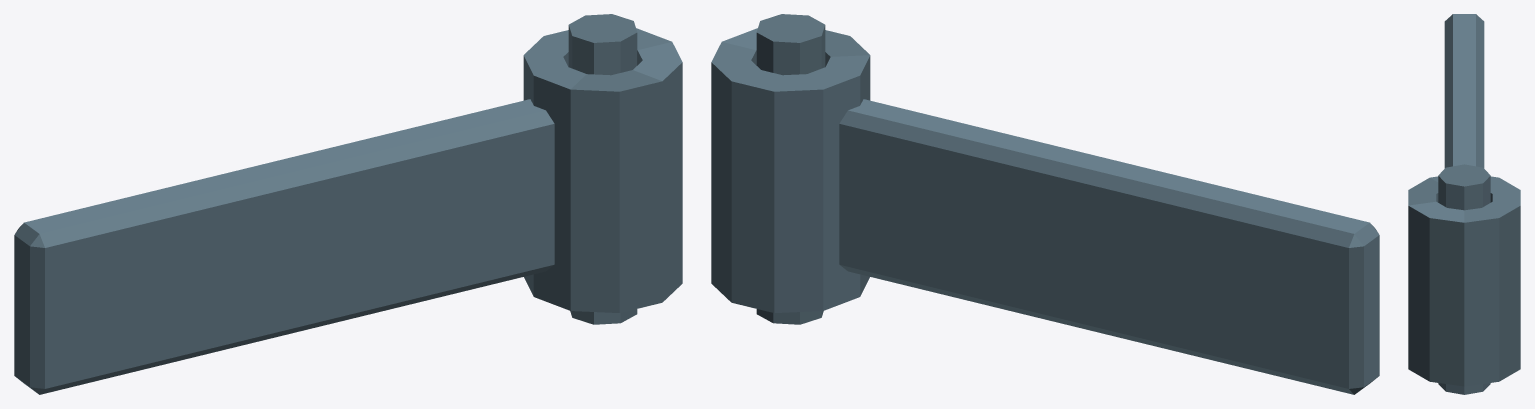
The model's file is D15_Hinge_Band.fbx.
3 renders of one model, left to right at view 1: azimuth 30°, elevation 25°; view 2: azimuth 150°, elevation 25°; view 3: azimuth 270°, elevation 25°, orthographic. The views are drawn at different scales.
Parts seen in each view (by area): view 1: D15_Hinge_Band; view 2: D15_Hinge_Band; view 3: D15_Hinge_Band.
Part boxes in pixels (x1=…): D15_Hinge_Band: x1=14, y1=14, x2=682, y2=394; D15_Hinge_Band: x1=711, y1=14, x2=1379, y2=394; D15_Hinge_Band: x1=1408, y1=14, x2=1520, y2=394.
Bounding box in the file's own units: 0.338 × 0.14 × 0.0685.
Materials: 1 (1 with a texture image).
